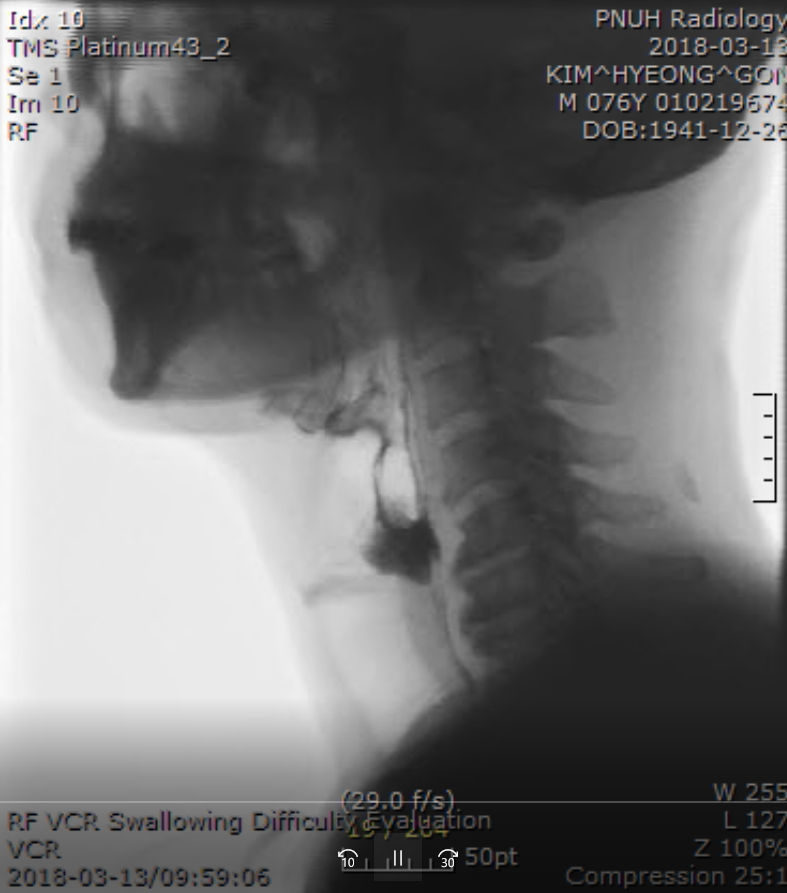dros: (371, 463, 433, 526)
food: (351, 495, 443, 591)
uros: (305, 380, 384, 443)
